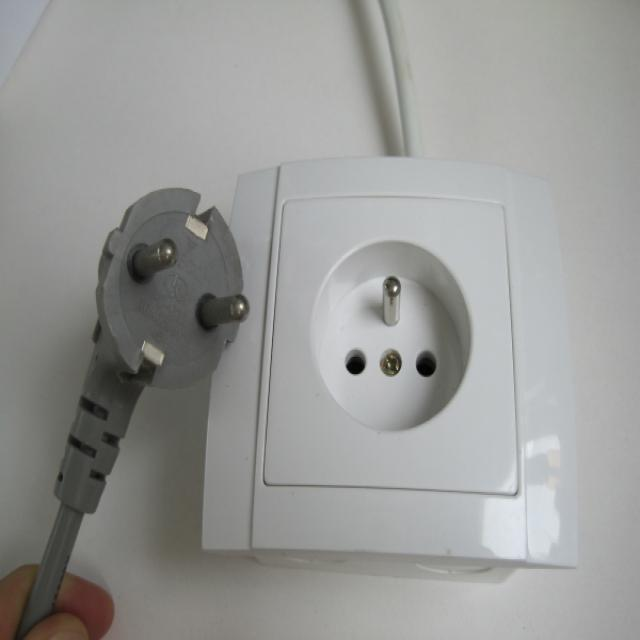typeb: (253, 138, 587, 584)
